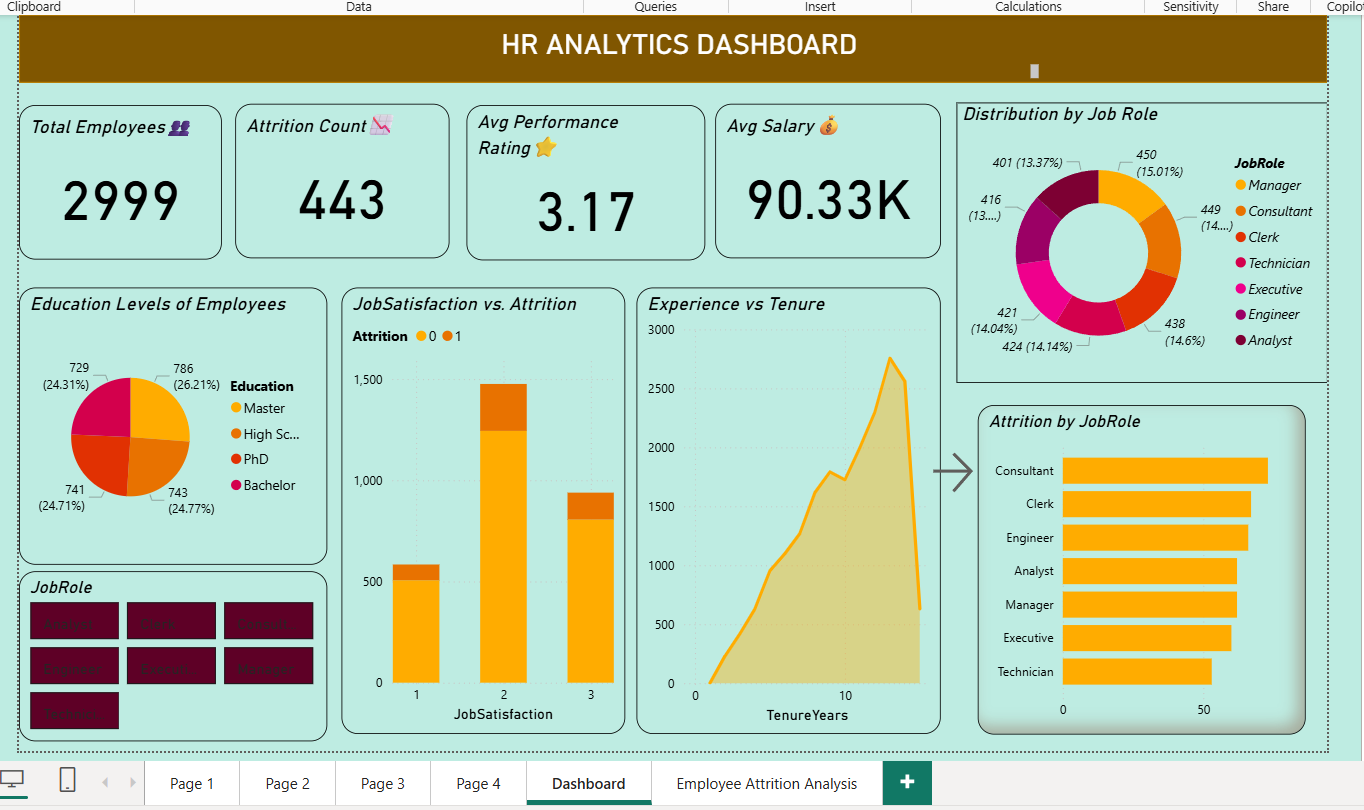

This screenshot's page, from the dashboard's own definition file:
{"tool":"powerbi","page":{"name":"Dashboard","canvas":[1280,720],"ordinal":4},"visuals":[{"type":"shape","box":[0,0,1280,66.4],"z":0},{"type":"card","title":"Avg Performance Rating⭐","fields":{"Values":["HR_Final_Engineered_Data.Avg_Performance_Rating"]},"box":[437.8,88,233.6,151.6],"z":1000},{"type":"card","title":"Attrition Count📉","fields":{"Values":["HR_Final_Engineered_Data.Attrition_Count"]},"box":[211.9,86.2,209.4,151.5],"z":2000},{"type":"card","title":"Avg Salary💰","fields":{"Values":["HR_Final_Engineered_Data.Avg_Monthly_Income"]},"box":[681.3,86.2,220.5,151.5],"z":3000},{"type":"donutChart","title":"Distribution by Job Role","fields":{"Category":["HR_Final_Engineered_Data.JobRole"],"Y":["CountNonNull(HR_Final_Engineered_Data.EmployeeID)"]},"box":[916.7,85.8,363.6,274.2],"z":4000},{"type":"columnChart","title":"JobSatisfaction vs. Attrition","fields":{"Category":["HR_Final_Engineered_Data.JobSatisfaction"],"Y":["CountNonNull(HR_Final_Engineered_Data.EmployeeID)"],"Series":["HR_Final_Engineered_Data.Attrition"]},"box":[316.1,266.6,277.5,436.7],"z":5000},{"type":"pieChart","title":"Education Levels of Employees","fields":{"Category":["HR_Final_Engineered_Data.Education"],"Y":["CountNonNull(HR_Final_Engineered_Data.EmployeeID)"]},"box":[0,266.6,301.6,271.4],"z":6000},{"type":"lineChart","title":"Experience vs Tenure","fields":{"Y":["Sum(HR_Final_Engineered_Data.ExperienceYears)"],"Category":["HR_Final_Engineered_Data.TenureYears"]},"box":[604.4,266.6,298,436.7],"z":7000},{"type":"advancedSlicerVisual","fields":{"Values":["HR_Final_Engineered_Data.JobRole"]},"box":[0,544.1,301.6,166.5],"z":8000},{"type":"card","title":"Total Employees👥","fields":{"Values":["CountNonNull(HR_Final_Engineered_Data.EmployeeID)"]},"box":[0,87.5,198.3,151.5],"z":9000},{"type":"barChart","title":"Attrition by JobRole","fields":{"Category":["HR_Final_Engineered_Data.JobRole"],"Y":["Sum(HR_Final_Engineered_Data.Attrition)"]},"box":[937.4,381.2,320.9,322.1],"z":10000},{"type":"textbox","title":"       HR ANALYTICS DASHBOARD","box":[466.9,12.1,535.7,54.3],"z":11000},{"type":"actionButton","box":[887.8,409.6,50.1,75.8],"z":12000}]}

Visuals, with their boxes in screenshot pixels (x1, y1, x2, y2):
shape: bbox=[18, 11, 1315, 78]
"Avg Performance Rating⭐" card: bbox=[462, 100, 698, 254]
"Attrition Count📉" card: bbox=[233, 98, 445, 252]
"Avg Salary💰" card: bbox=[708, 98, 932, 252]
"Distribution by Job Role" donutChart: bbox=[947, 98, 1316, 376]
"JobSatisfaction vs. Attrition" columnChart: bbox=[338, 281, 619, 724]
"Education Levels of Employees" pieChart: bbox=[18, 281, 323, 556]
"Experience vs Tenure" lineChart: bbox=[630, 281, 932, 724]
advancedSlicerVisual - HR_Final_Engineered_Data.JobRole: bbox=[18, 562, 323, 731]
"Total Employees👥" card: bbox=[18, 99, 219, 253]
"Attrition by JobRole" barChart: bbox=[968, 397, 1293, 724]
"       HR ANALYTICS DASHBOARD" textbox: bbox=[491, 23, 1034, 78]
actionButton: bbox=[918, 426, 968, 503]
